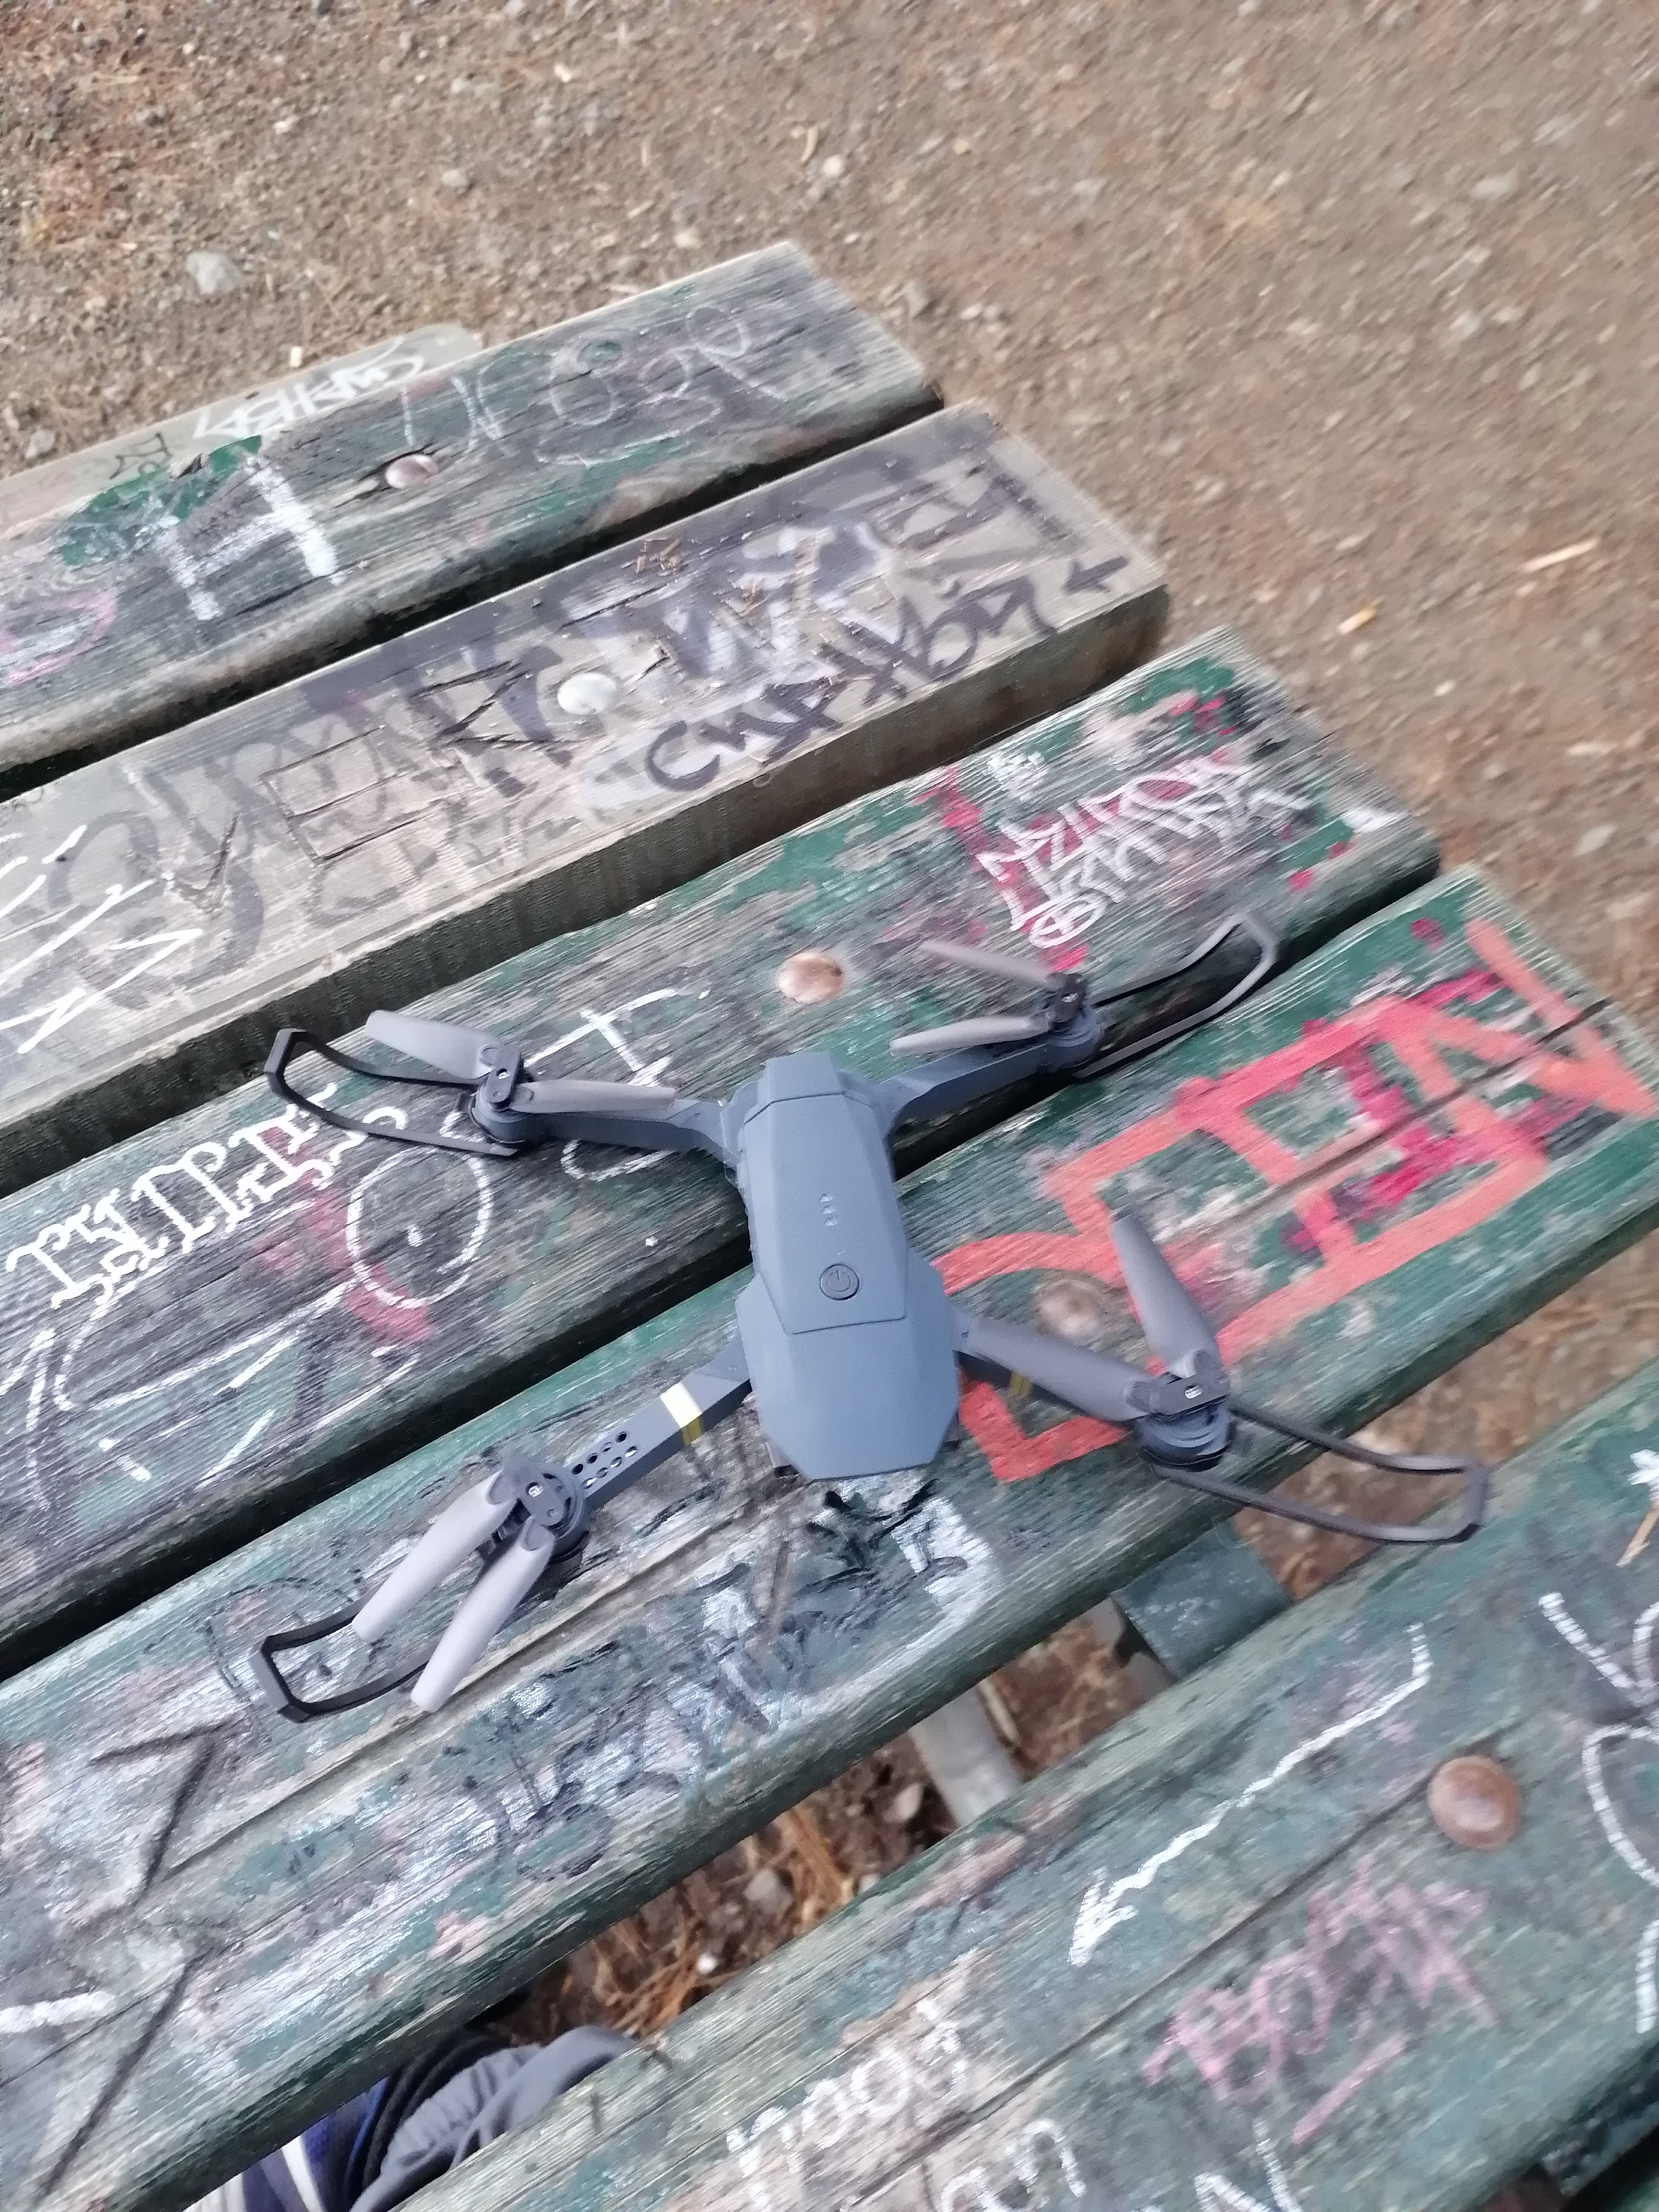drone: (218, 991, 1528, 1709)
